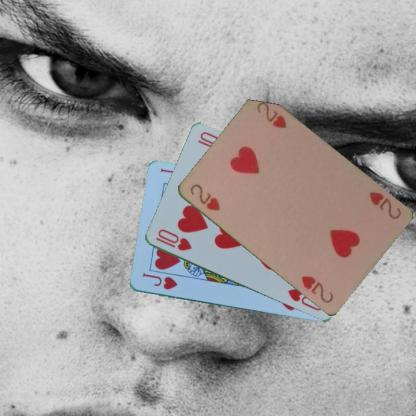10h: (152, 226, 192, 252)
2h: (365, 188, 403, 221), (187, 181, 222, 212)
Jh: (139, 271, 178, 292)
